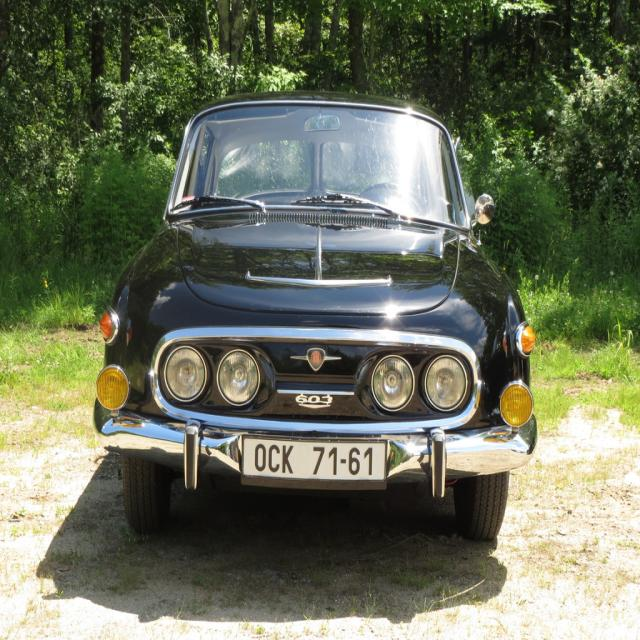car: (89, 98, 541, 564)
